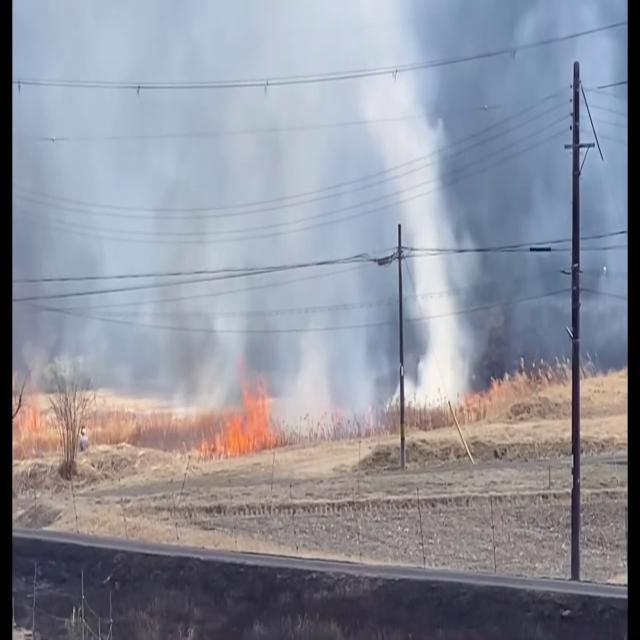Fire: (194, 379, 294, 464)
Smoke: (21, 2, 622, 427)
